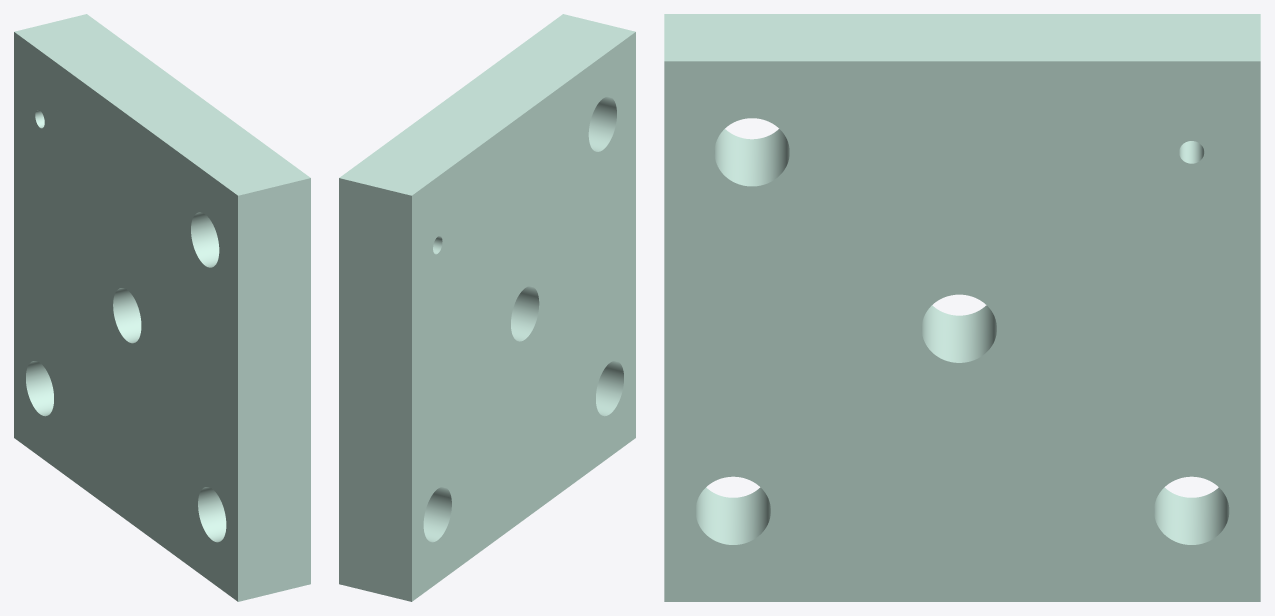
The picture shows the model from 3 angles, left to right: view 1: azimuth 30°, elevation 25°; view 2: azimuth 150°, elevation 25°; view 3: azimuth 270°, elevation 25°; orthographic projection. The views are drawn at different scales.
Parts seen in each view (by area): view 1: Renderer Node; view 2: Renderer Node; view 3: Renderer Node.
Part boxes in pixels (<box>): Renderer Node: <box>14,14,310,601</box>; Renderer Node: <box>339,14,635,601</box>; Renderer Node: <box>664,14,1260,601</box>.
Bounding box in the file's own units: 0.2813 × 1.5 × 1.5.
